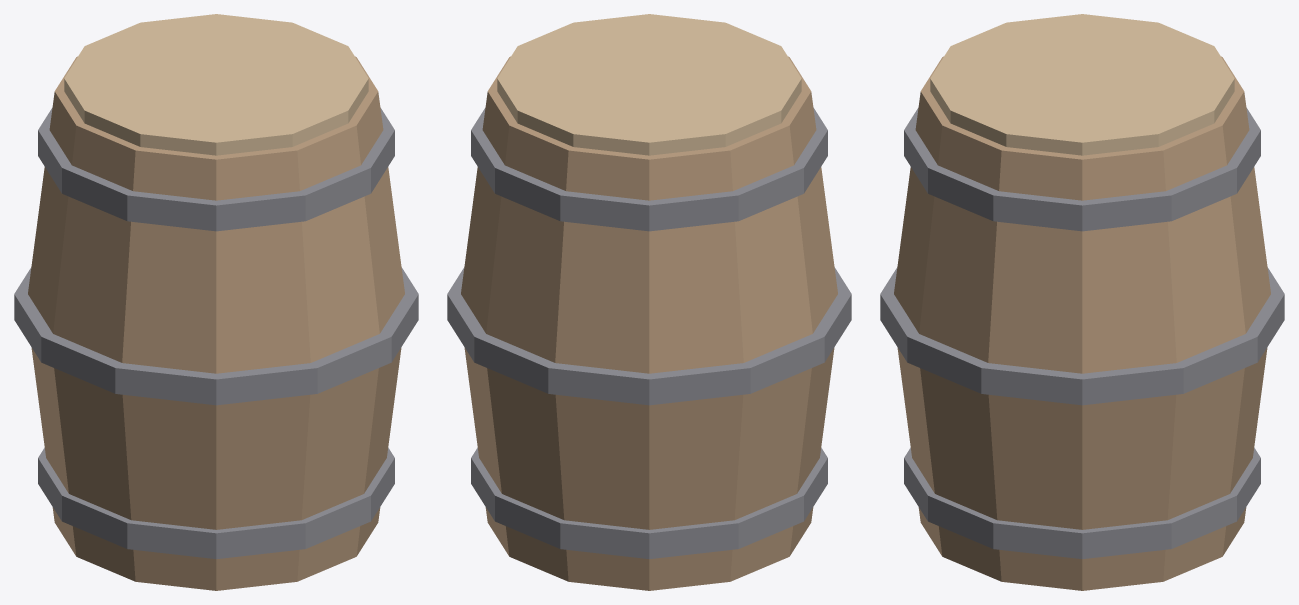
The model's file is prop_barrel.glb.
The picture shows the model from 3 angles, left to right: view 1: azimuth 30°, elevation 25°; view 2: azimuth 150°, elevation 25°; view 3: azimuth 270°, elevation 25°; orthographic projection.
Visible parts, largest first — view 1: prop_barrel; view 2: prop_barrel; view 3: prop_barrel.
Boxes of the visible parts, bbox=[...] form: prop_barrel: bbox=[14, 14, 418, 590]; prop_barrel: bbox=[447, 14, 851, 590]; prop_barrel: bbox=[880, 14, 1284, 590].
Bounding box in the file's own units: 0.85 × 1.03 × 0.85.
